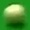white: (0, 0, 30, 30)
